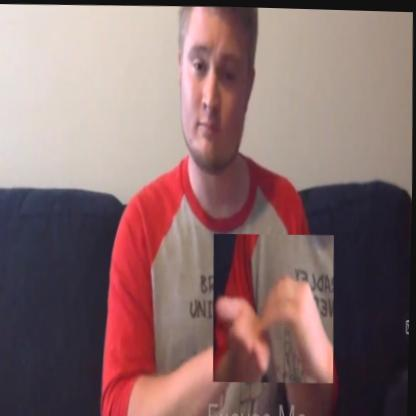ExcuseMe: (211, 231, 337, 383)
